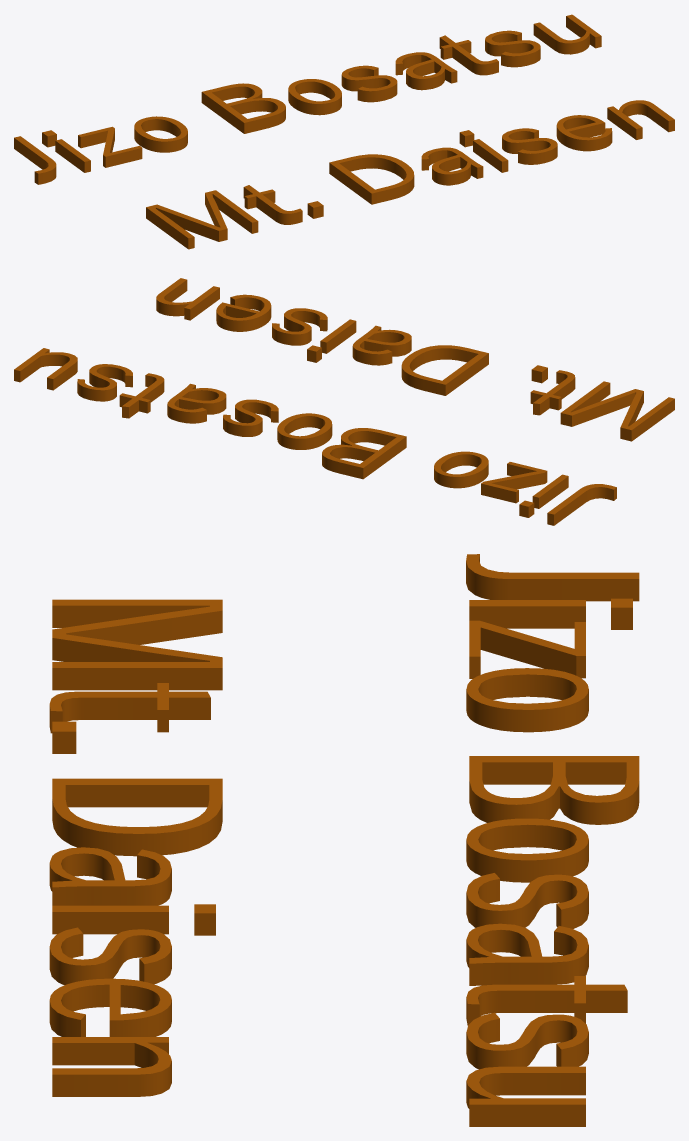
The model's file is 3DTitle JizoBosazu.fbx.
3 renders of one model, top to bottom at view 1: azimuth 30°, elevation 25°; view 2: azimuth 150°, elevation 25°; view 3: azimuth 270°, elevation 25°, orthographic. The views are drawn at different scales.
Visible parts, largest first — view 1: JizoBosatsu; view 2: JizoBosatsu; view 3: JizoBosatsu.
Boxes of the visible parts, bbox=[...] form: JizoBosatsu: bbox=[14, 14, 674, 249]; JizoBosatsu: bbox=[14, 278, 674, 525]; JizoBosatsu: bbox=[49, 554, 639, 1126].
Size of the model in its own units: 198 by 3.75 by 89.8.
